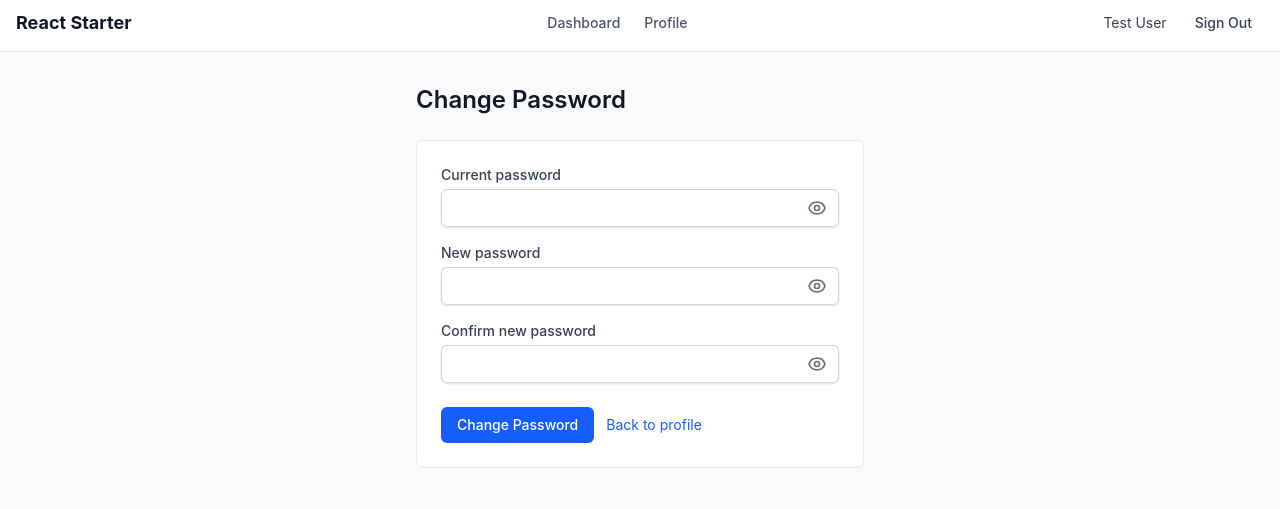
Test case: ChangePasswordPage › shows error when passwords do not match
Type "oldpassword" into the password field labelled "Current password". click: (640, 208)
box: x1=441 y1=189 x2=839 y2=227
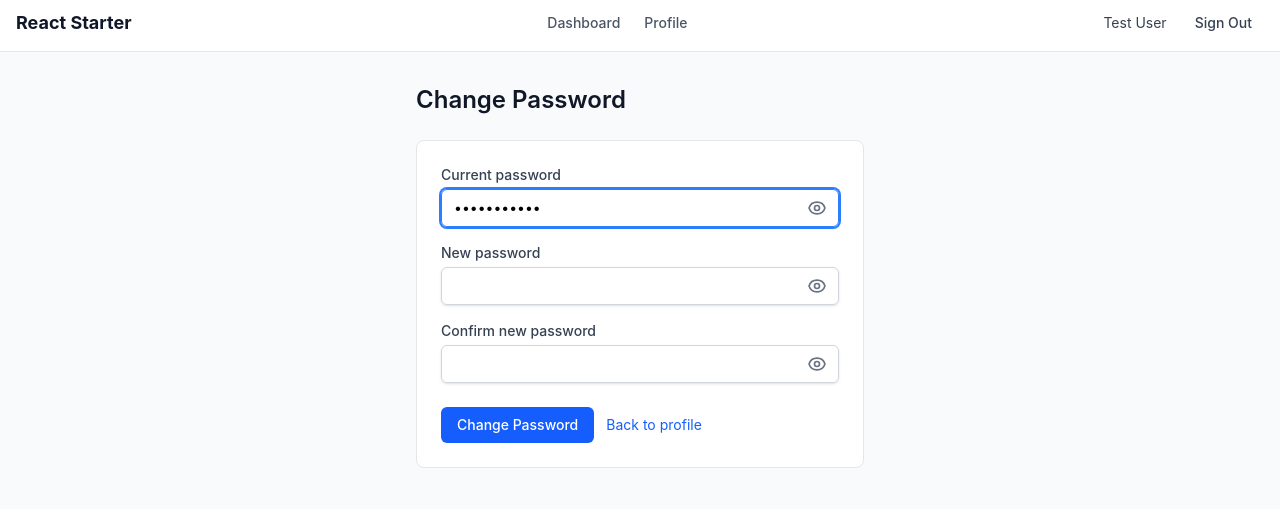
Type "newpassword1" into the password field labelled "New password". click: (640, 286)
box: x1=441 y1=267 x2=839 y2=305
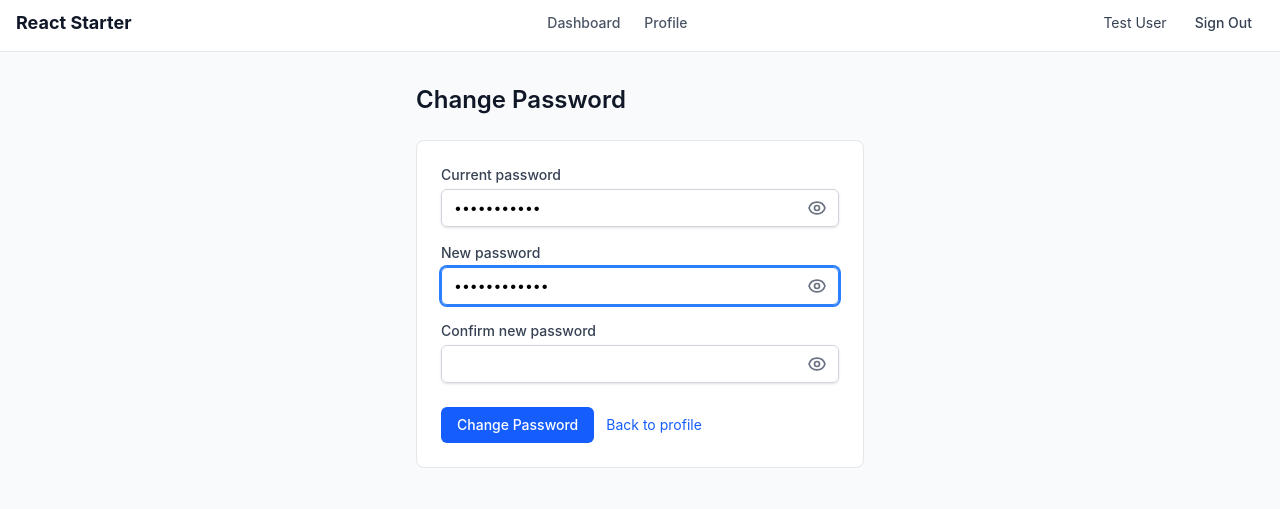
Type "different99" into the password field labelled "Confirm new password". click: (640, 364)
box: x1=441 y1=345 x2=839 y2=383
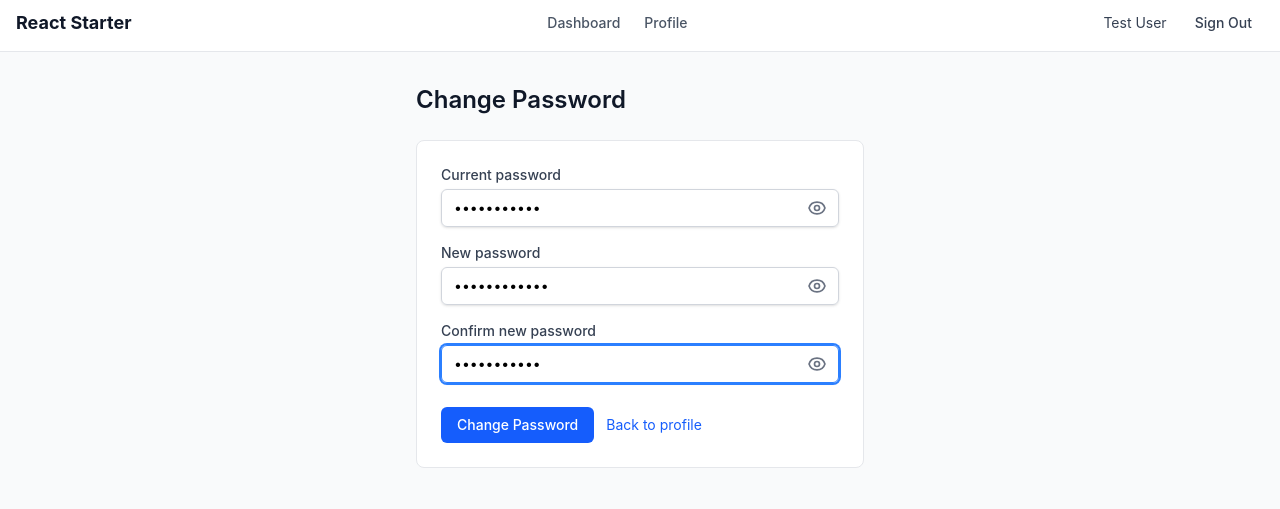
Click the button "Change Password". click: (518, 425)
box: x1=441 y1=407 x2=594 y2=443
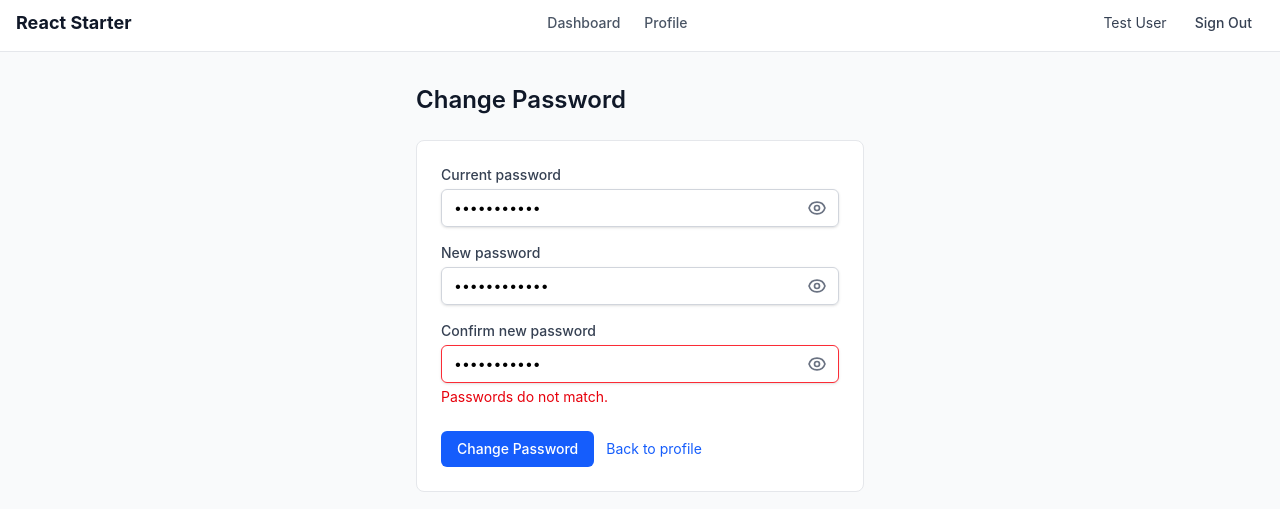
Now the text "Passwords do not match." is shown, box x1=441 y1=388 x2=608 y2=405
